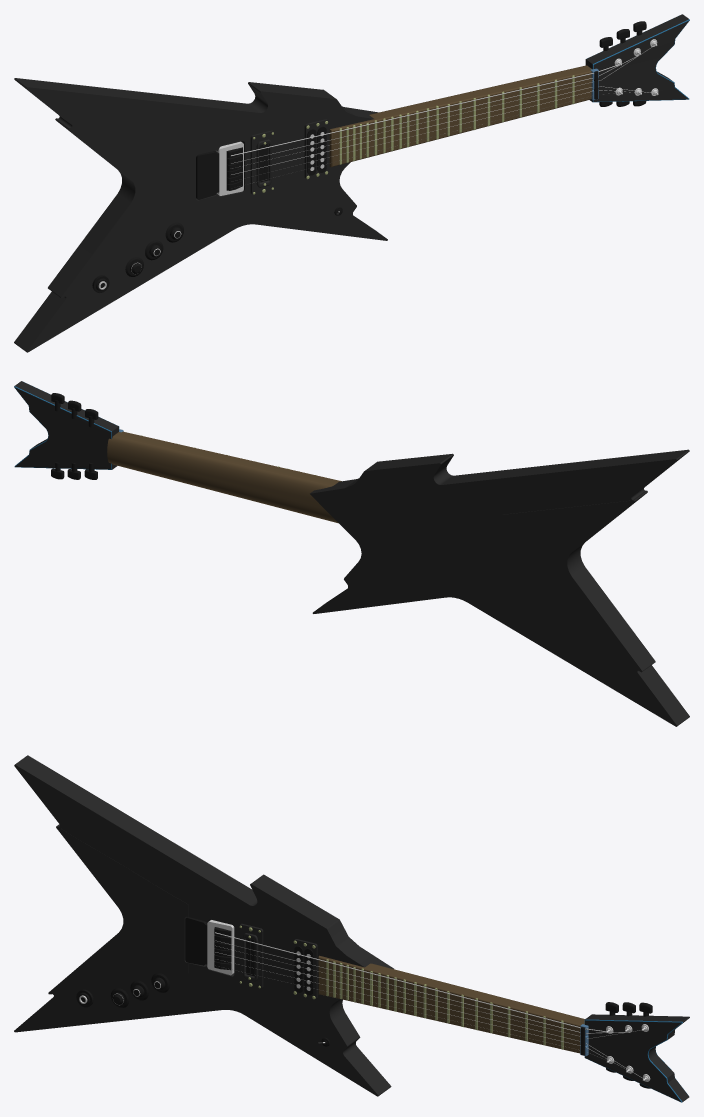
Rendered from compressed_guitar1.glb.
3 views of the same model, one above another, from view 1: azimuth 30°, elevation 25°; view 2: azimuth 150°, elevation 25°; view 3: azimuth 330°, elevation 25° (orthographic).
Visible parts, largest first — view 1: Case, Neck, Pen, Frets, Strings, Pickups6, Pickups2, Volume_and_Tone_Knobs, Pickups, Tailpiece, Pickups1, Pegs (+1 smaller); view 2: Case, Neck, Pen, Pegs; view 3: Case, Neck, Pen, Frets, Strings, Pickups6, Pickups2, Volume_and_Tone_Knobs, Pickups, Pickups8, Tailpiece, Pickups1 (+1 smaller).
Part boxes in pixels (left/top/right/bottom): Case: left=14, top=78, right=387, bottom=352; Neck: left=329, top=65, right=593, bottom=167; Pen: left=585, top=14, right=689, bottom=102; Frets: left=339, top=75, right=574, bottom=164; Strings: left=231, top=45, right=655, bottom=186; Pickups6: left=196, top=151, right=219, bottom=199; Pickups2: left=250, top=130, right=275, bottom=195; Volume_and_Tone_Knobs: left=125, top=222, right=183, bottom=276; Pickups: left=307, top=126, right=326, bottom=175; Tailpiece: left=226, top=147, right=242, bottom=190; Pickups1: left=304, top=119, right=328, bottom=179; Pegs: left=599, top=21, right=646, bottom=106; Case: left=310, top=449, right=689, bottom=726; Neck: left=107, top=431, right=341, bottom=523; Pen: left=14, top=381, right=119, bottom=469; Pegs: left=51, top=393, right=98, bottom=479; Case: left=14, top=755, right=393, bottom=1096; Neck: left=318, top=955, right=584, bottom=1053; Pen: left=584, top=1014, right=689, bottom=1102; Frets: left=326, top=959, right=563, bottom=1049; Strings: left=215, top=932, right=643, bottom=1078; Pickups6: left=185, top=917, right=207, bottom=965; Pickups2: left=238, top=923, right=263, bottom=989; Volume_and_Tone_Knobs: left=110, top=973, right=169, bottom=1007; Pickups: left=294, top=946, right=313, bottom=995; Pickups8: left=207, top=920, right=234, bottom=975; Tailpiece: left=214, top=927, right=231, bottom=970; Pickups1: left=293, top=939, right=317, bottom=999.
Size of the model in its own units: 16.85 by 6.44 by 0.796.
